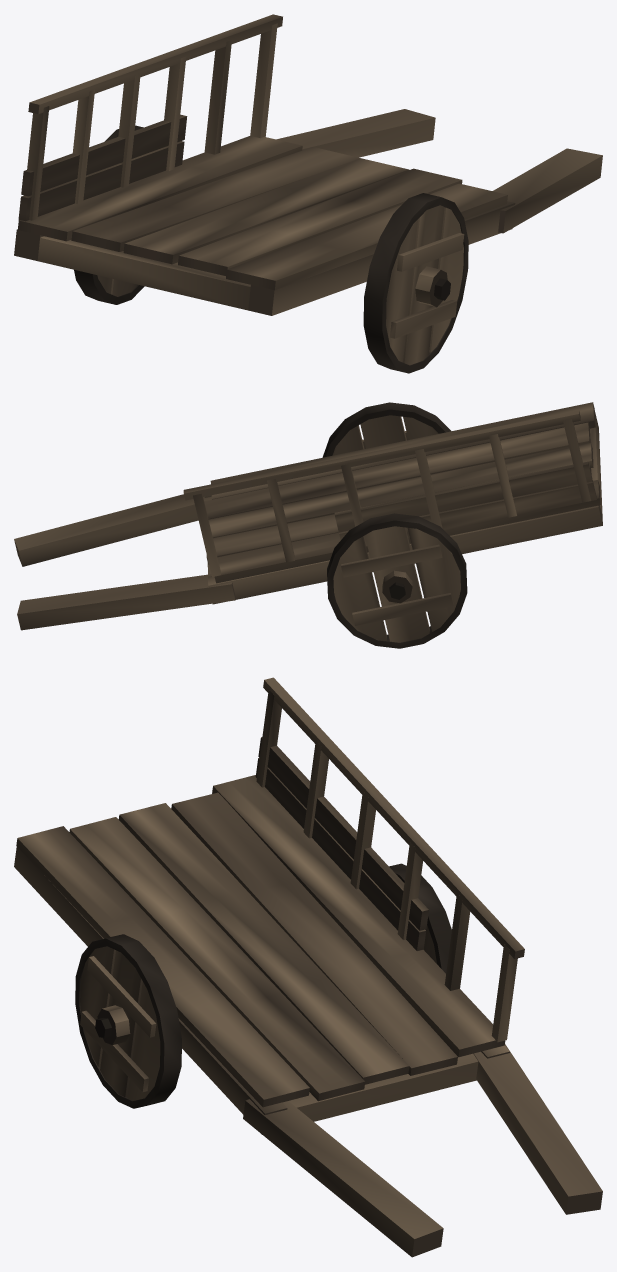
Rendered from Aracart01.glb.
3 views of the same model, one above another, from view 1: azimuth 30°, elevation 25°; view 2: azimuth 150°, elevation 25°; view 3: azimuth 270°, elevation 25° (orthographic). The views are drawn at different scales.
Parts seen in each view (by area): view 1: Aracart01; view 2: Aracart01; view 3: Aracart01.
Boxes of the visible parts, x1,y1,x2,y2 form: Aracart01: (14,14,602,373); Aracart01: (14,402,602,648); Aracart01: (14,677,602,1257).
Bounding box in the file's own units: 4.72 × 1.91 × 3.71.
